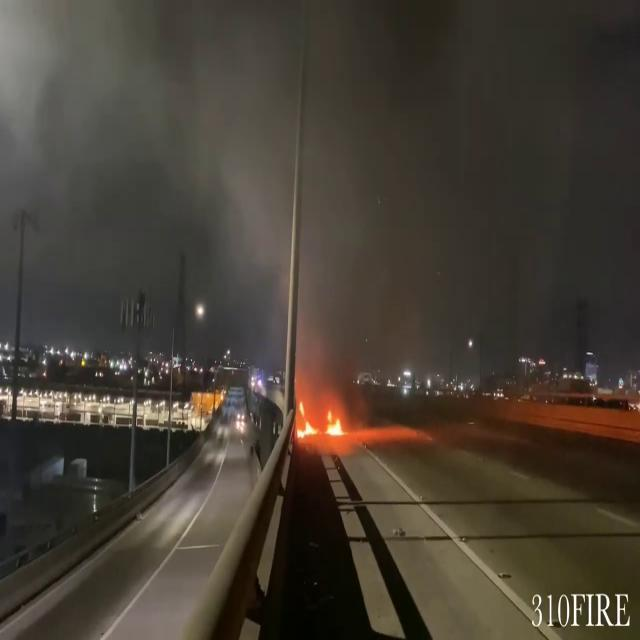Fire: (294, 390, 348, 444)
Smoke: (5, 1, 635, 347)
